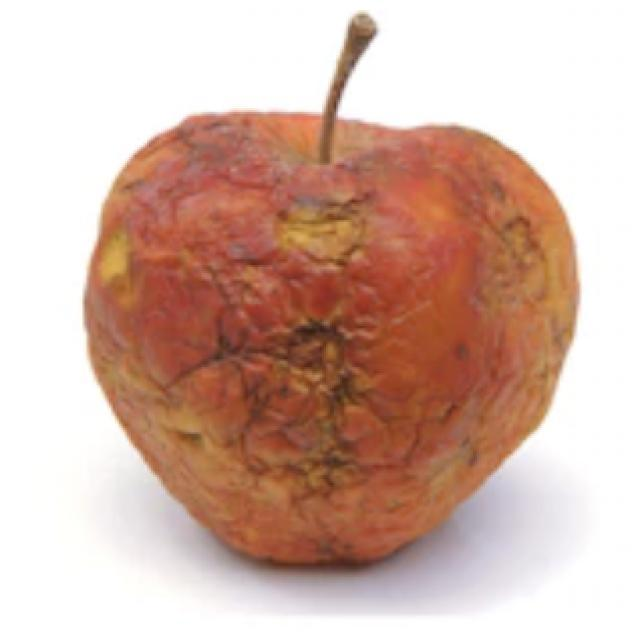Rotten: (80, 100, 583, 567)
